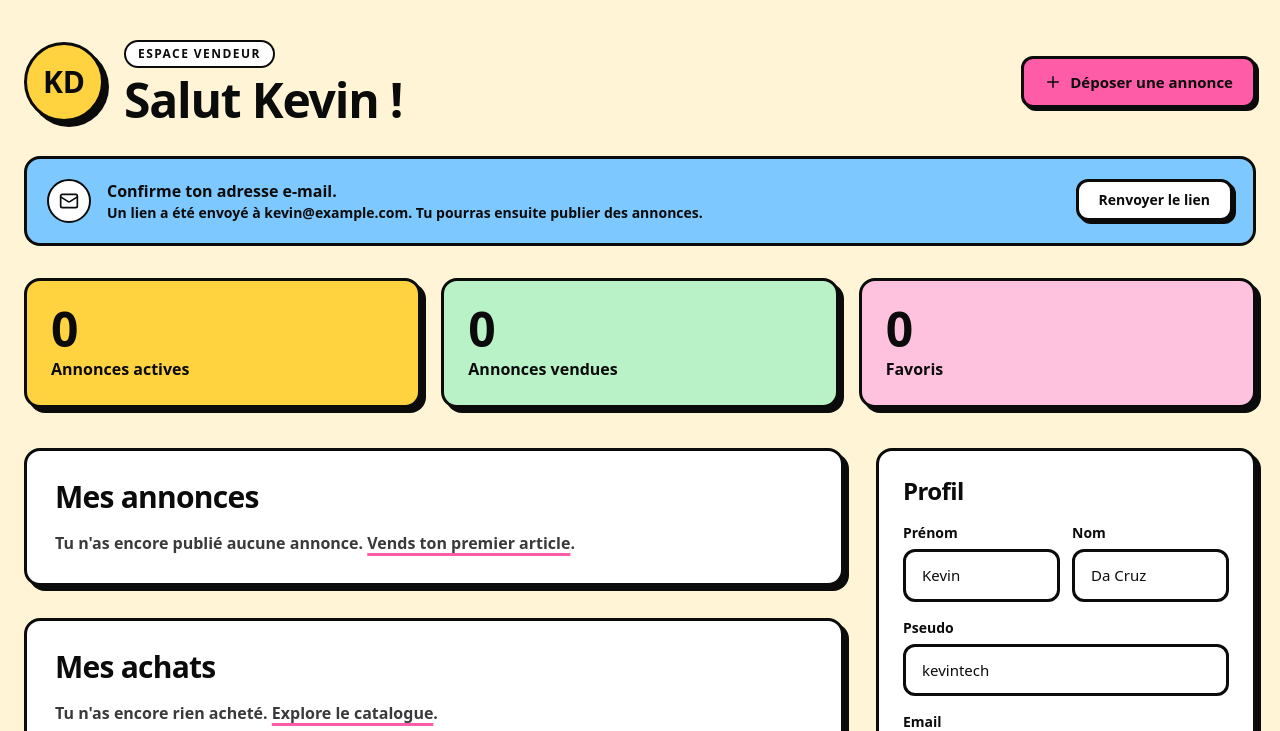
Account › asks to confirm the email address when it is not confirmed yet
Click the button "Renvoyer le lien". click: click(1154, 200)
box: left=1076, top=179, right=1233, bottom=221
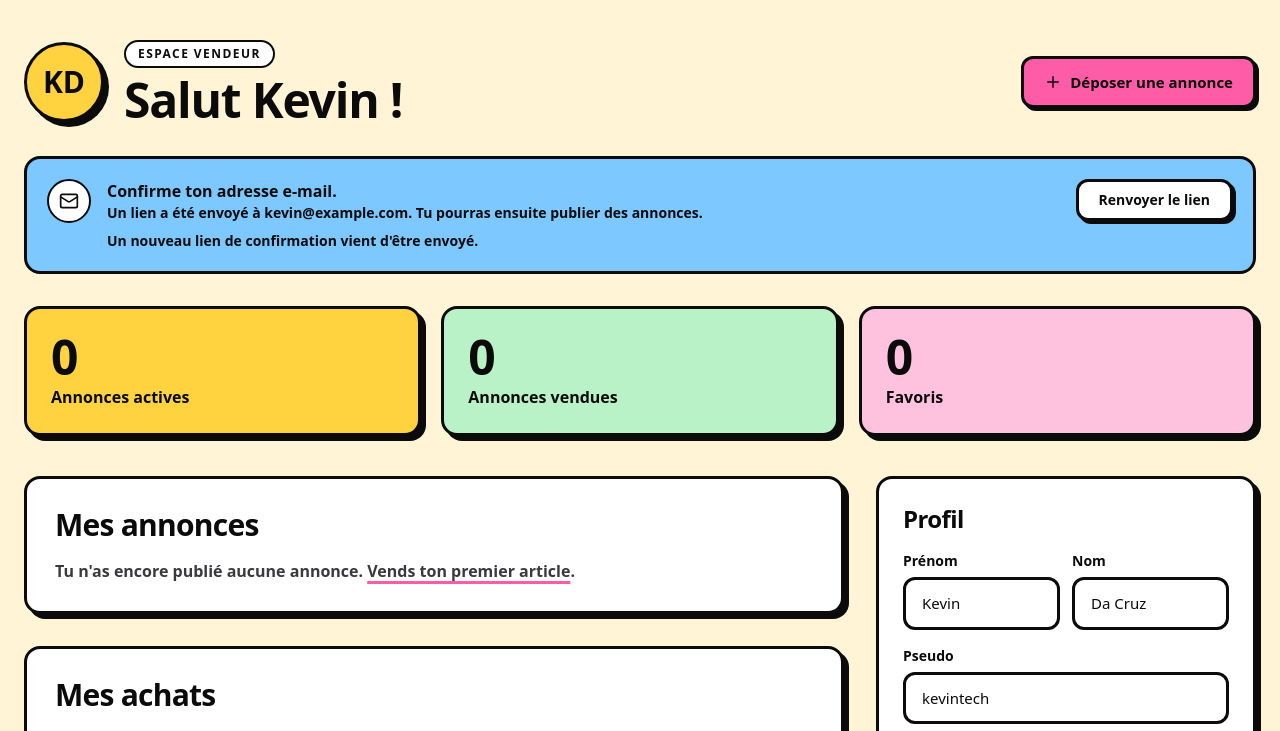
Expected: the text "Un nouveau lien de confirmation vient d'être envoyé." is shown, left=107, top=231, right=478, bottom=250
